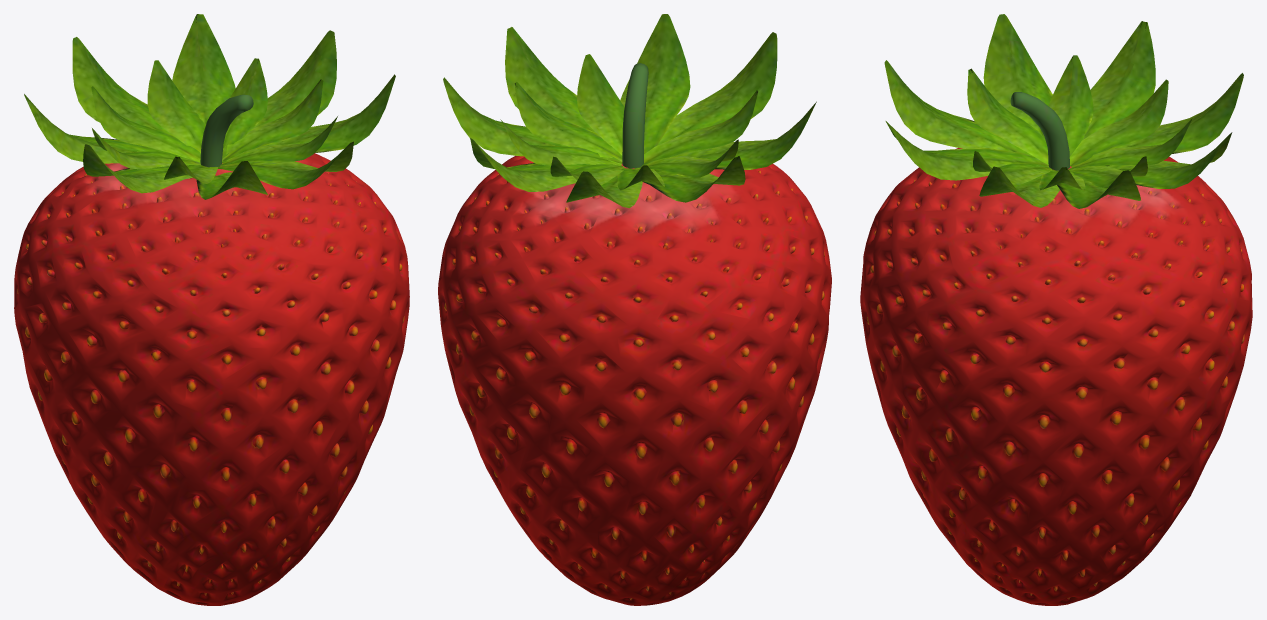
Rendered from strawberry_high.glb.
3 views of the same model, side by side, from view 1: azimuth 30°, elevation 25°; view 2: azimuth 150°, elevation 25°; view 3: azimuth 270°, elevation 25° (orthographic).
Parts seen in each view (by area): view 1: strawberry; view 2: strawberry; view 3: strawberry.
Part boxes in pixels (left/top/right/bottom): strawberry: left=14, top=14, right=409, bottom=605; strawberry: left=438, top=14, right=831, bottom=605; strawberry: left=860, top=14, right=1252, bottom=605.
Size of the model in its own units: 4.9 by 7.08 by 4.9.
1 material, 1 textured.
